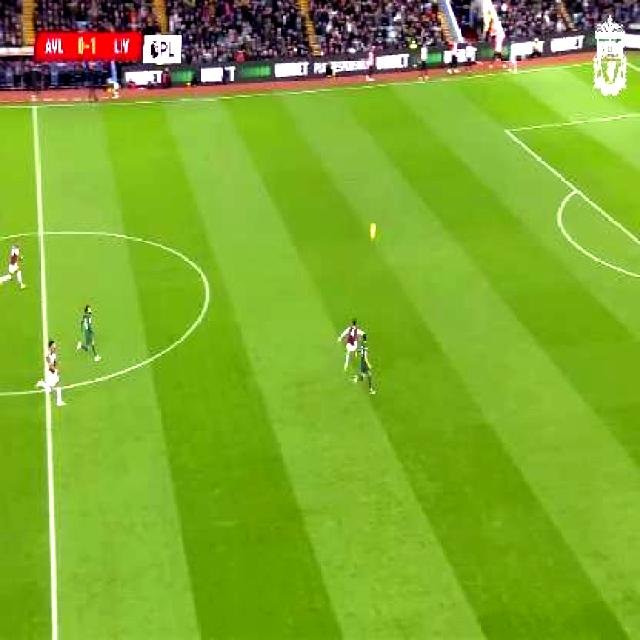bigarea_top_inner: (498, 120, 514, 140)
halfcircle_bottom: (35, 377, 54, 400)
halfcircle_top: (29, 218, 49, 244)
midline_top_intersection: (26, 97, 42, 115)
top_arc_area_intersection: (568, 180, 583, 198)
